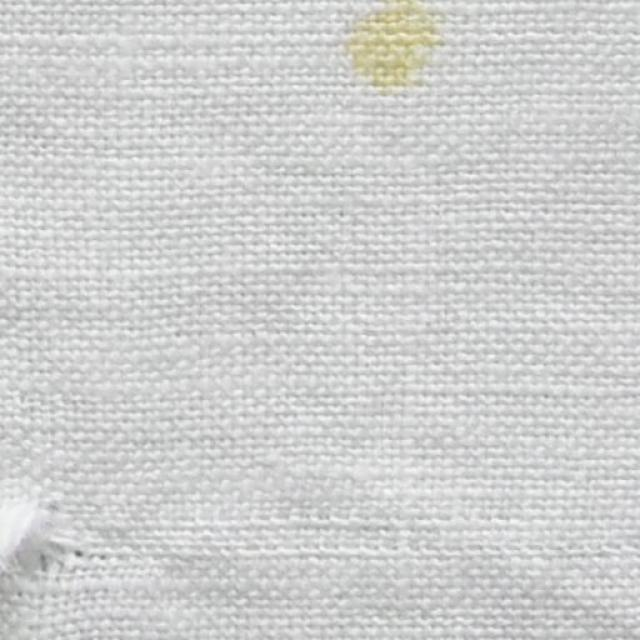Knot: (0, 482, 96, 582)
Stain: (343, 0, 445, 75)
